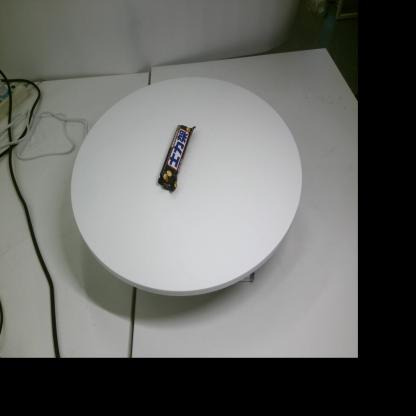Chocolate: (158, 125, 196, 192)
